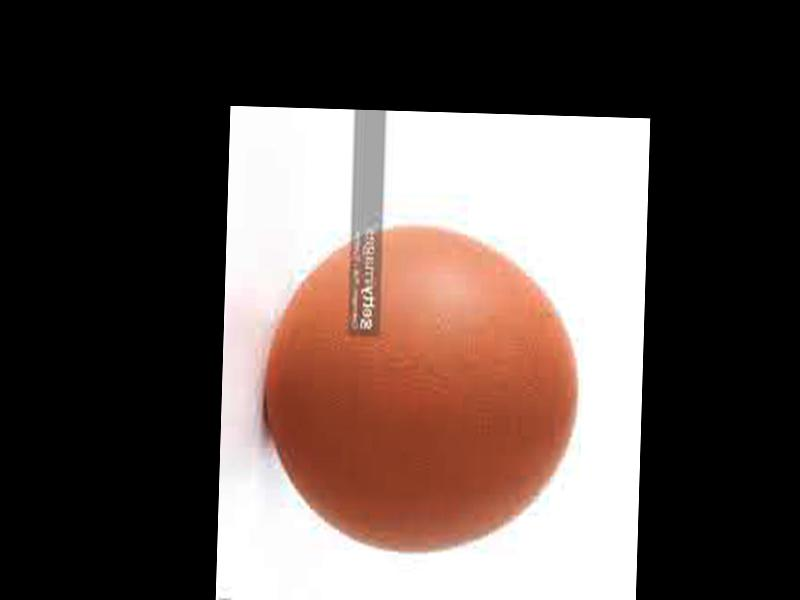Eggs: (267, 221, 583, 556)
